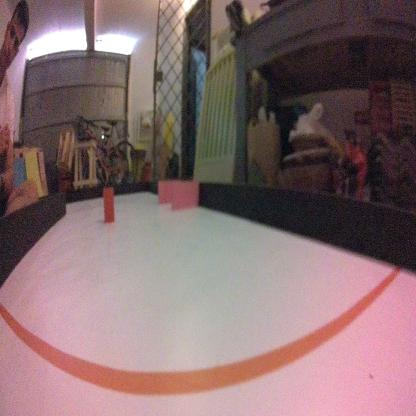magenta: (170, 179, 198, 209), (157, 177, 180, 203)
red: (102, 184, 115, 224)
